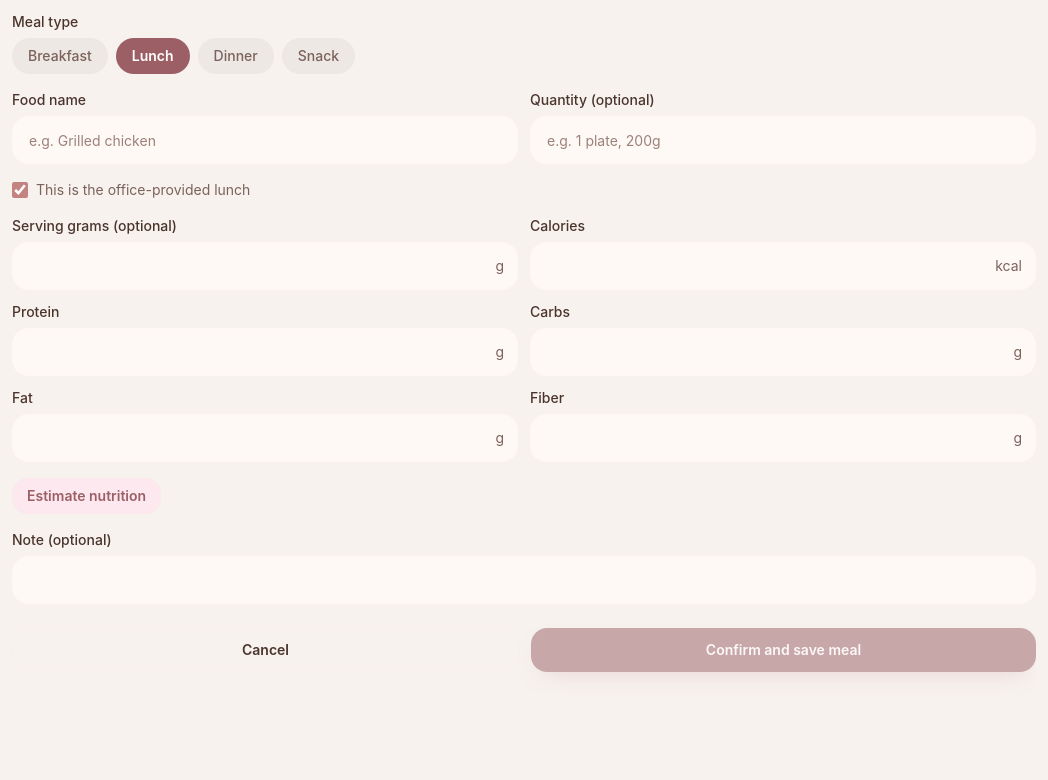
MealEntryForm › shows From your saved food cache for a reviewed estimate
Step 1. Type "Soto" into the field labelled "Food name" → (265, 140), box x1=12 y1=116 x2=518 y2=164
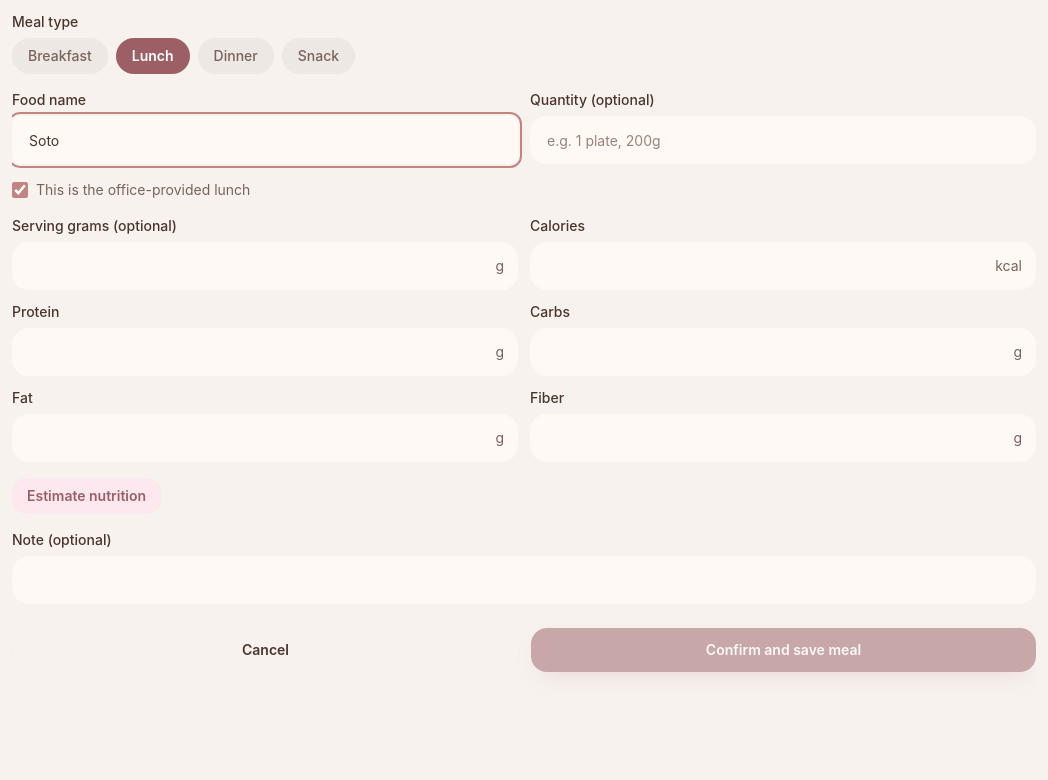
Step 2. Click the button "Estimate nutrition" → (87, 496), box x1=12 y1=478 x2=161 y2=514
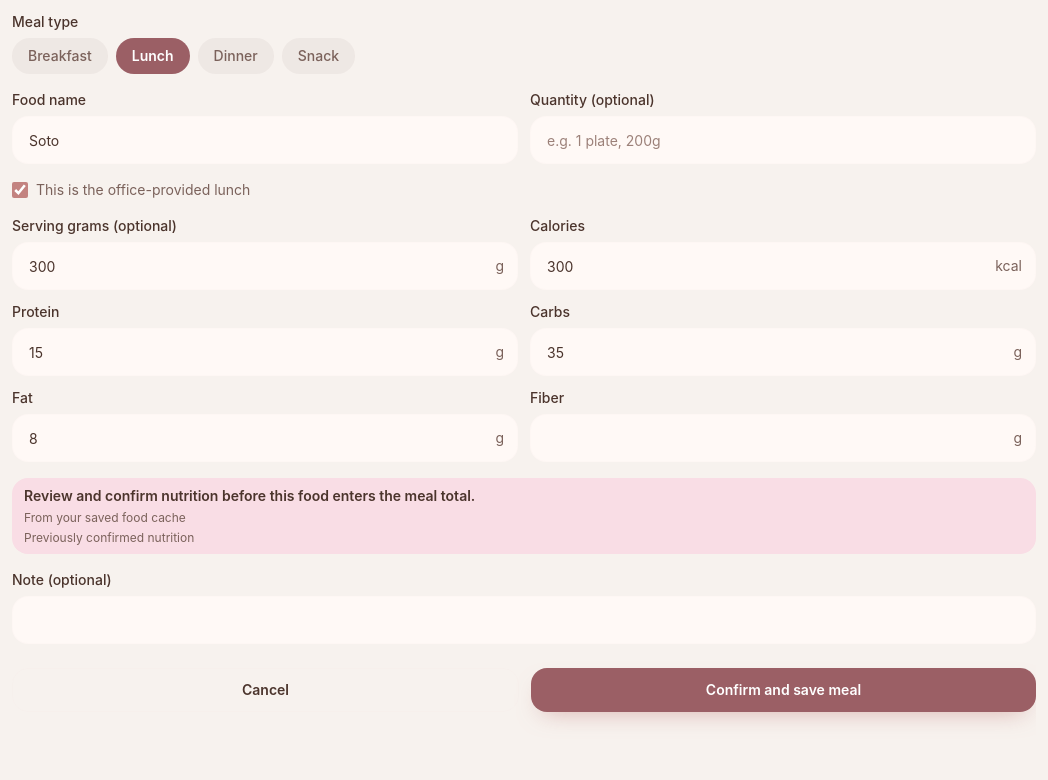
Result: the text "From your saved food cache" is shown at x1=24 y1=510 x2=186 y2=525
